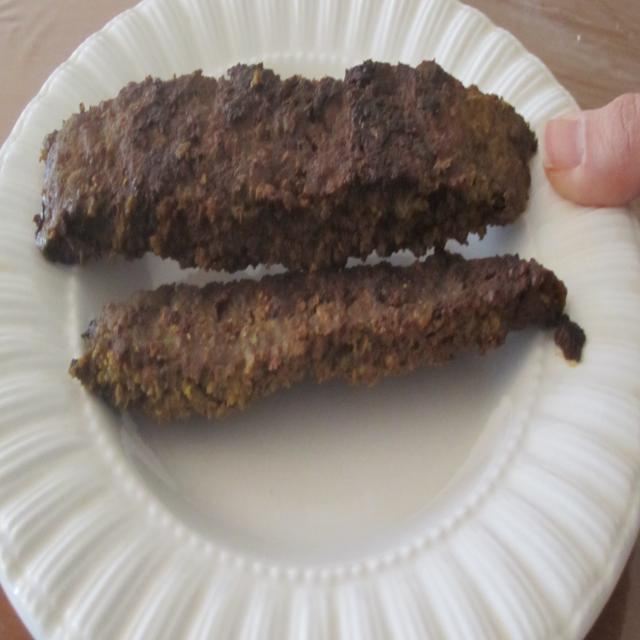cutlet: (34, 50, 554, 418)
